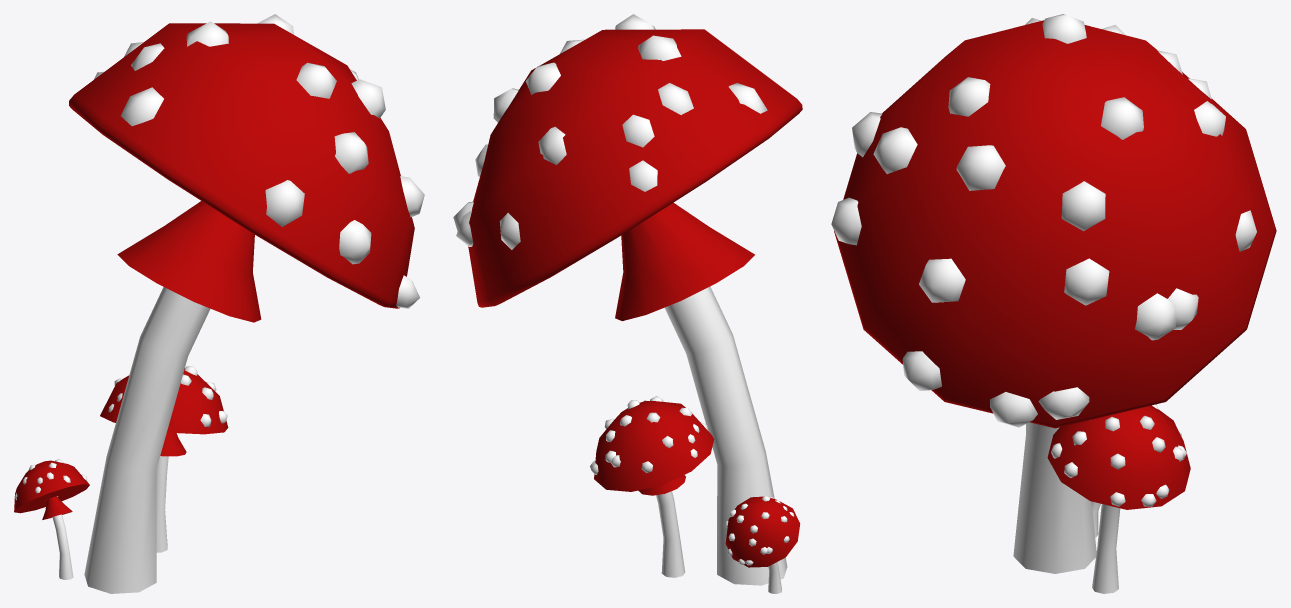
Rendered from Mashrom.FBX.
3 renders of one model, left to right at view 1: azimuth 30°, elevation 25°; view 2: azimuth 150°, elevation 25°; view 3: azimuth 270°, elevation 25°, orthographic. The views are drawn at different scales.
Visible parts, largest first — view 1: Cylinder001, Cylinder002, Cylinder003; view 2: Cylinder001, Cylinder002, Cylinder003; view 3: Cylinder001, Cylinder002.
Part boxes in pixels (x1,y1,x2,y2): Cylinder001: (69, 14, 424, 593); Cylinder002: (100, 366, 228, 552); Cylinder003: (14, 459, 89, 579); Cylinder001: (453, 14, 802, 585); Cylinder002: (589, 396, 714, 577); Cylinder003: (724, 496, 800, 593); Cylinder001: (831, 14, 1276, 573); Cylinder002: (1047, 404, 1190, 593).
Bounding box in the file's own units: 88.54 × 131 × 88.81.
